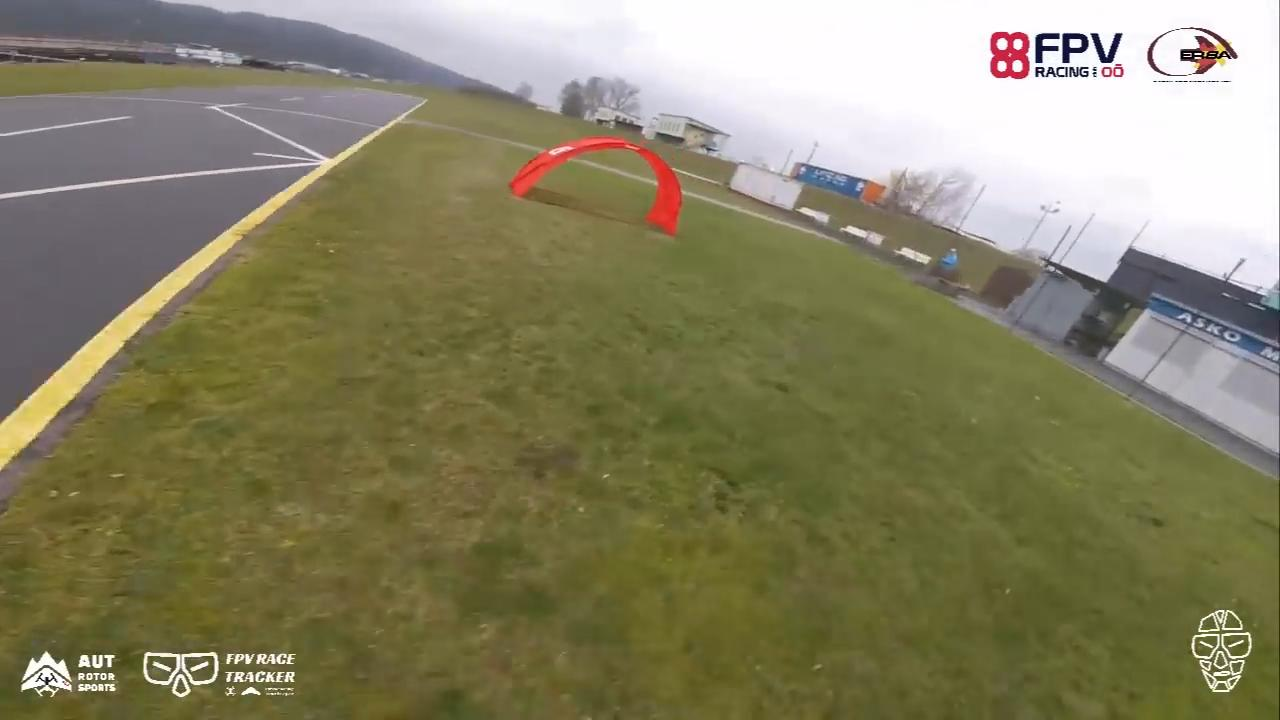gate: (504, 134, 685, 238)
